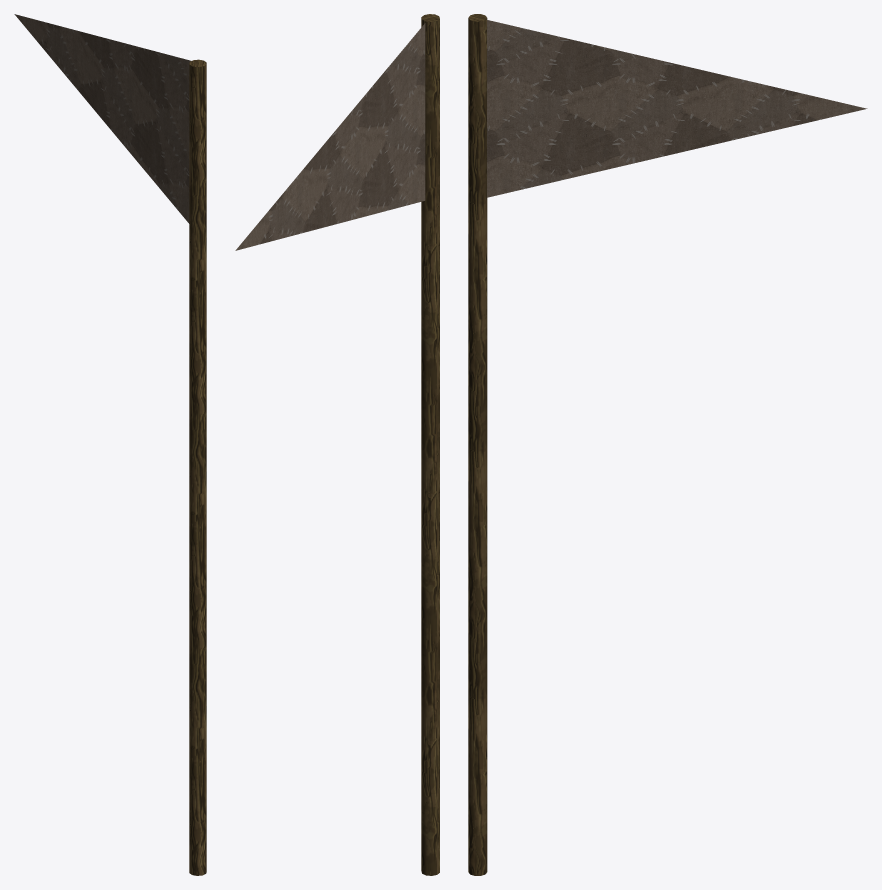
Rendered from Flag.fbx.
3 renders of one model, left to right at view 1: azimuth 30°, elevation 25°; view 2: azimuth 150°, elevation 25°; view 3: azimuth 270°, elevation 25°, orthographic. The views are drawn at different scales.
Visible parts, largest first — view 1: Cylinder, Plane; view 2: Plane, Cylinder; view 3: Plane, Cylinder.
Part boxes in pixels (box(x1,y1,x2,y2)): Cylinder: box(189, 59, 206, 875); Plane: box(14, 14, 190, 223); Plane: box(235, 23, 425, 250); Cylinder: box(421, 14, 439, 875); Plane: box(487, 20, 867, 197); Cylinder: box(468, 14, 487, 875).
Size of the model in its own units: 0.0431 by 2.26 by 0.9579.
Materials: 2 (2 with a texture image).
